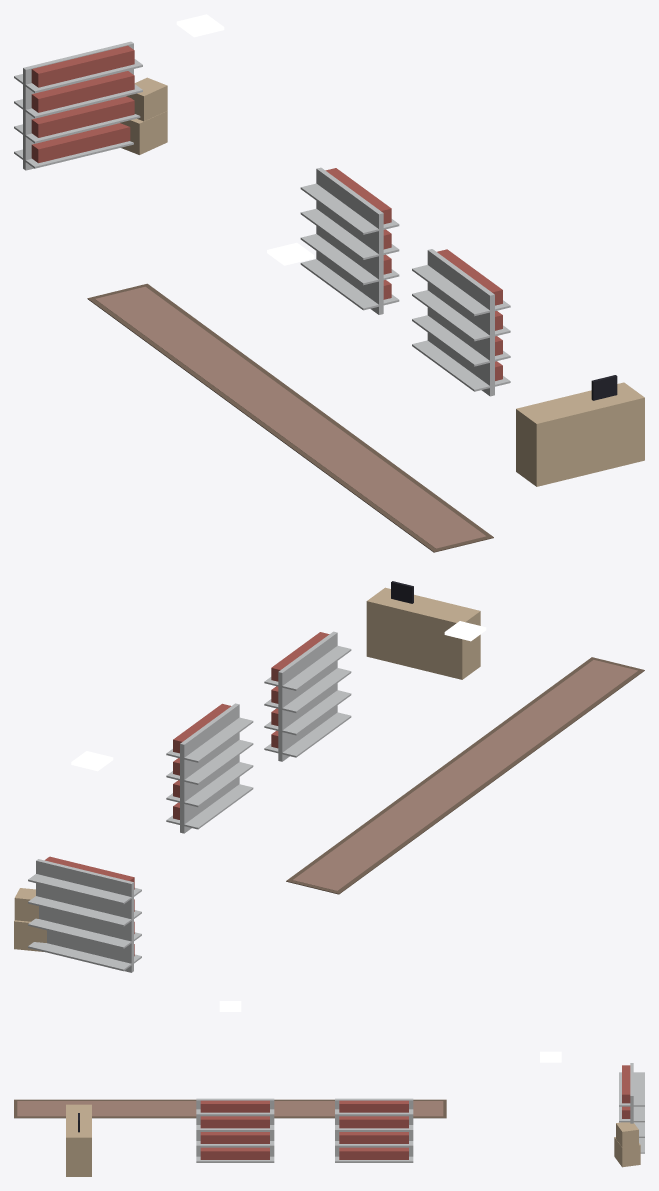
Rendered from fine-s0.glb.
The picture shows the model from 3 angles, top to bottom: view 1: azimuth 30°, elevation 25°; view 2: azimuth 150°, elevation 25°; view 3: azimuth 270°, elevation 25°; orthographic projection. The views are drawn at different scales.
Visible parts, largest first — view 1: soft-s0, shelving.000, shop-counter.000, shelf.000, shelf.001, cardboard-box.000; view 2: soft-s0, shelving.000, shop-counter.000, shelf.001, shelf.000, cardboard-box.000; view 3: soft-s0, shelf.000, shelf.001, shop-counter.000, shelving.000, cardboard-box.000.
Boxes of the visible parts, x1,y1,x2,y2 form: soft-s0: (87,283,493,552); shelving.000: (14,41,142,170); shop-counter.000: (516,375,644,486); shelf.000: (300,167,399,314); shelf.001: (412,249,510,396); cardboard-box.000: (120,77,167,154); soft-s0: (286,657,644,894); shelving.000: (28,856,141,972); shop-counter.000: (366,581,480,679); shelf.001: (264,631,351,761); shelf.000: (166,703,253,833); cardboard-box.000: (14,888,46,951); soft-s0: (14,1099,446,1118); shelf.000: (335,1098,413,1162); shelf.001: (196,1098,274,1162); shop-counter.000: (66,1104,91,1176); shelving.000: (619,1063,644,1153); cardboard-box.000: (614,1122,640,1167).
Size of the model in its own units: 4.2 by 2.64 by 14.55.
